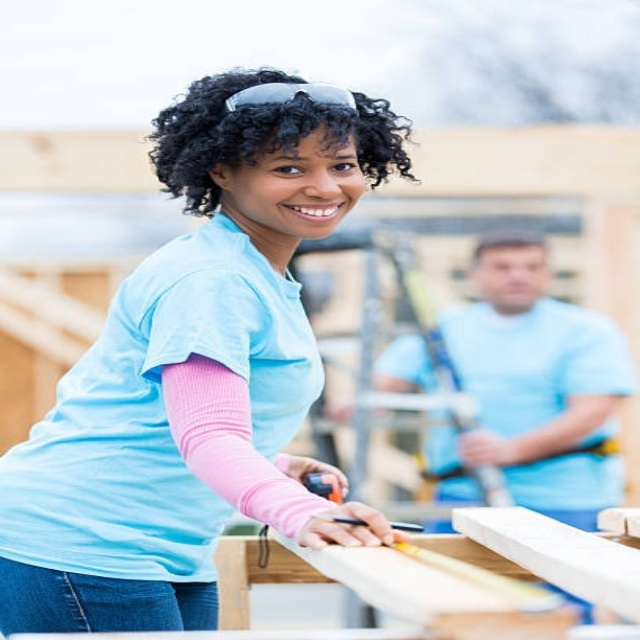Sin_gafas: (260, 151, 365, 185)
Sin_guantes: (300, 501, 403, 554), (273, 444, 353, 497)
Sin_mascara: (271, 193, 344, 231)
